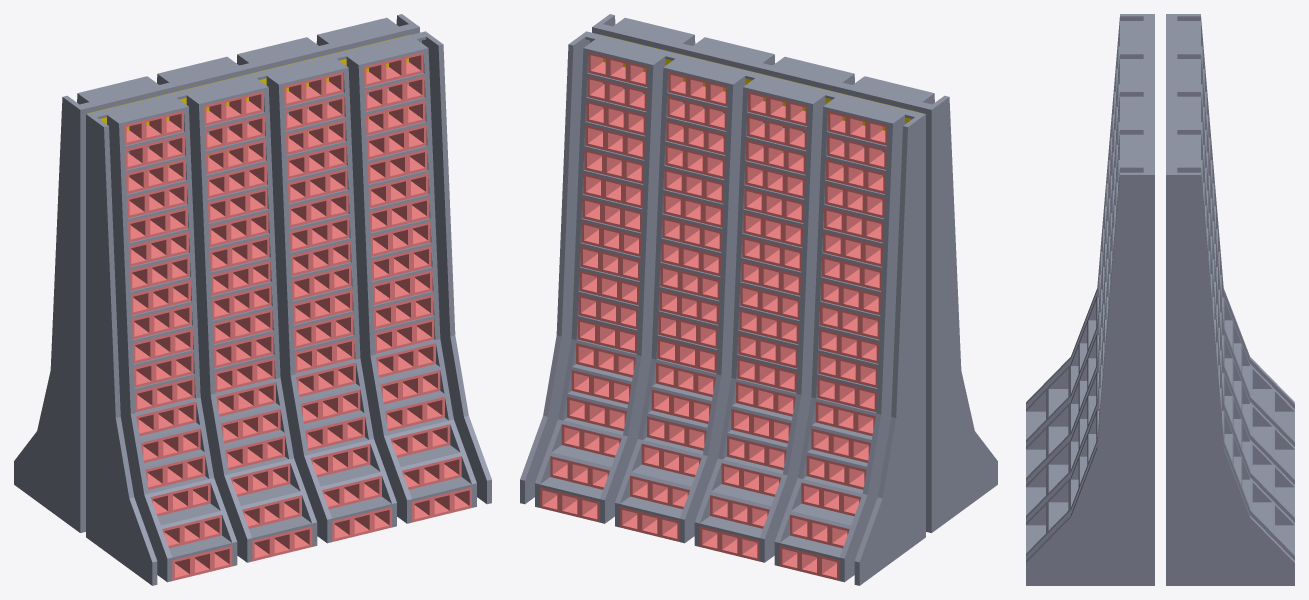
File: captower.glb
3 views of the same model, side by side, from view 1: azimuth 30°, elevation 25°; view 2: azimuth 150°, elevation 25°; view 3: azimuth 270°, elevation 25° (orthographic). The views are drawn at different scales.
Visible parts, largest first — view 1: mass; view 2: mass; view 3: mass.
Part boxes in pixels (box(x1,y1,x2,y2)): mass: box(14, 14, 491, 585); mass: box(520, 14, 997, 585); mass: box(1026, 14, 1294, 585).
Size of what is drawn, in the model's own units: 68 by 81 by 48.
